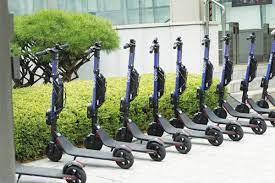kick_board: (36, 44, 133, 168)
kick_handler: (36, 43, 69, 55), (85, 41, 104, 55), (124, 39, 137, 52), (150, 37, 160, 53), (172, 37, 184, 49), (220, 31, 232, 43), (246, 32, 257, 43), (201, 34, 209, 46)
kick_neck: (48, 60, 65, 127), (122, 54, 139, 111), (90, 58, 105, 119), (152, 55, 164, 106), (217, 47, 230, 94), (242, 45, 254, 90), (174, 51, 185, 98), (201, 48, 211, 94)
kick_wheel: (113, 148, 134, 168), (173, 134, 191, 153), (44, 143, 62, 161), (206, 128, 223, 146), (250, 117, 266, 136), (149, 142, 164, 160), (85, 134, 102, 149), (228, 123, 242, 141), (147, 122, 163, 136), (118, 128, 133, 142), (193, 112, 207, 123), (214, 108, 227, 118)
